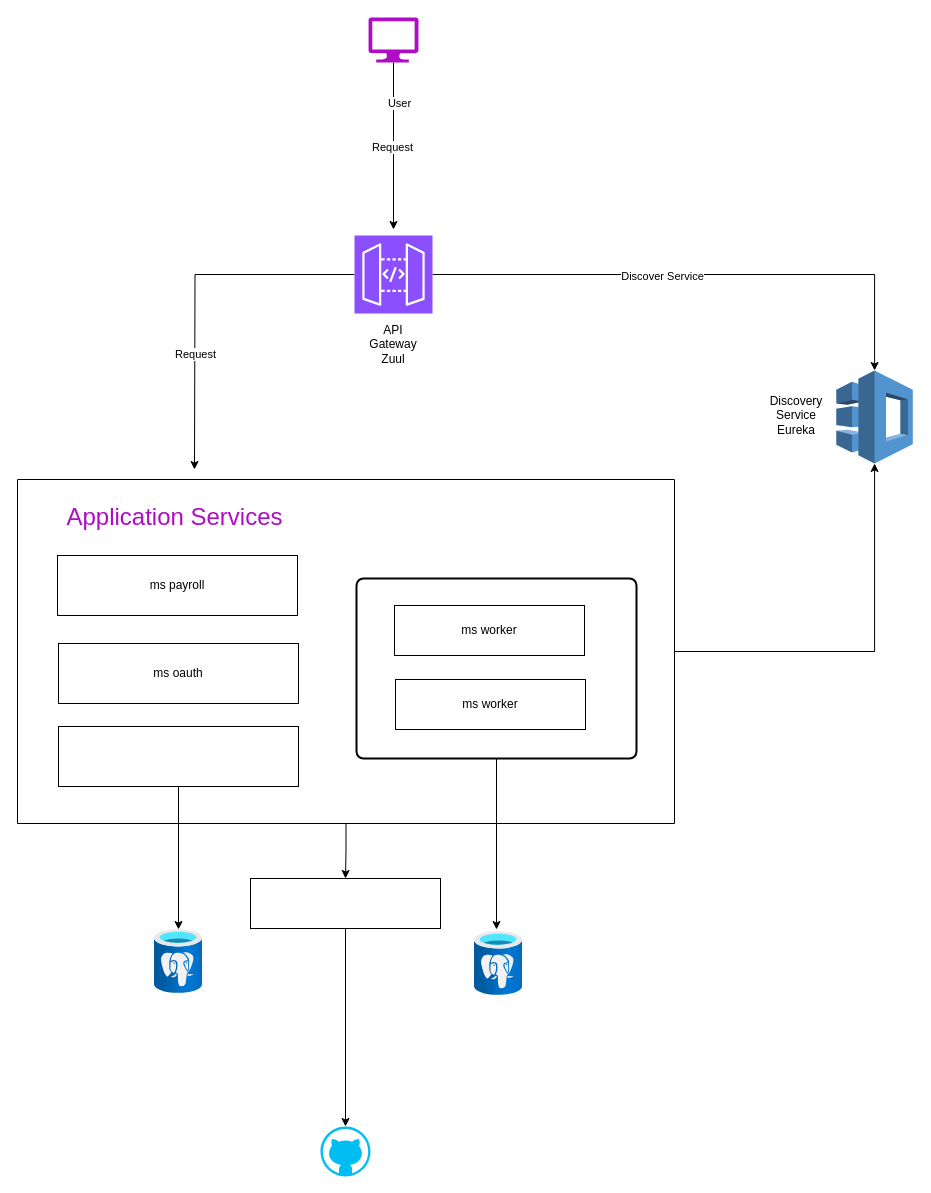
Image size: 931x1193. Some labels were removed from this diagram. Each missing label, with the centre of its shape:
"ms service config" goes at pixel 345 903.
"ms user" goes at pixel 178 756.
